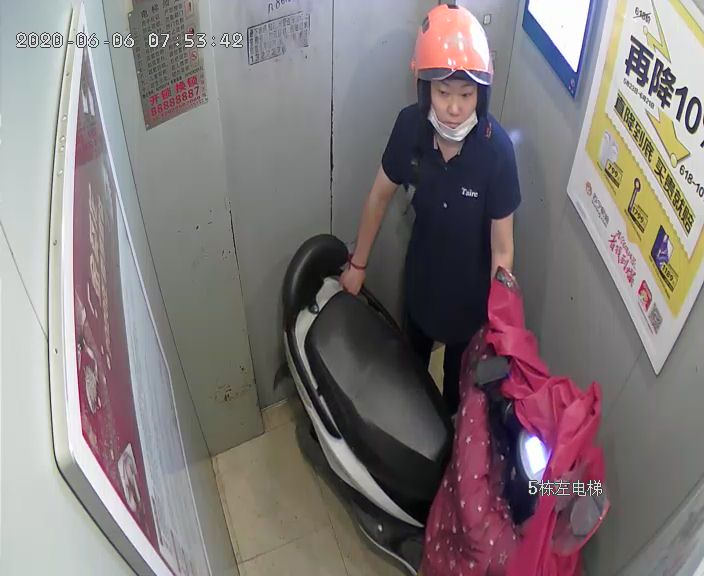Electric-bicycle: (282, 232, 614, 573)
